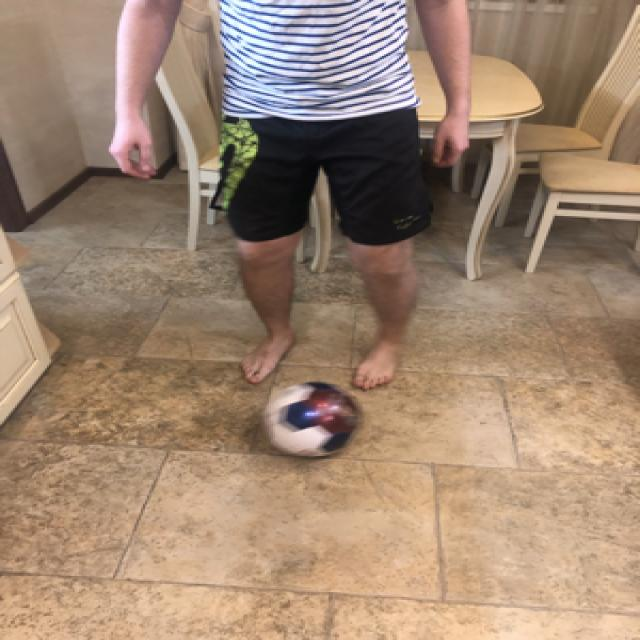soccer_ball: (258, 379, 361, 458)
